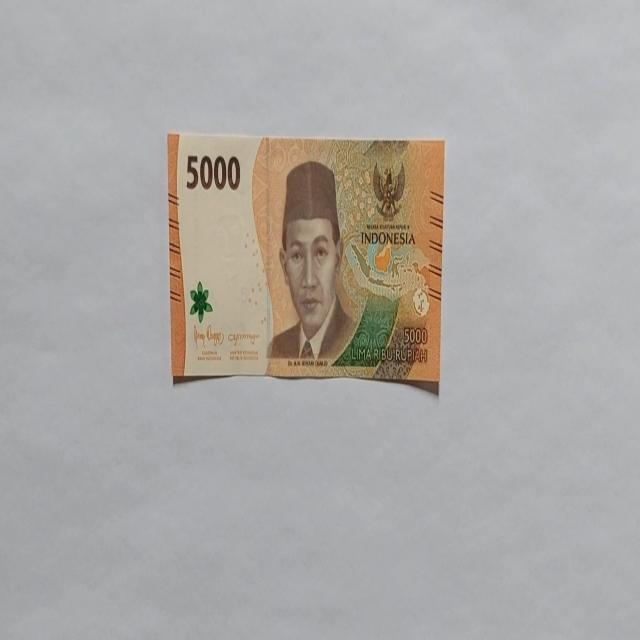lima ribu rupiah: (167, 131, 445, 392), (264, 159, 358, 365)
